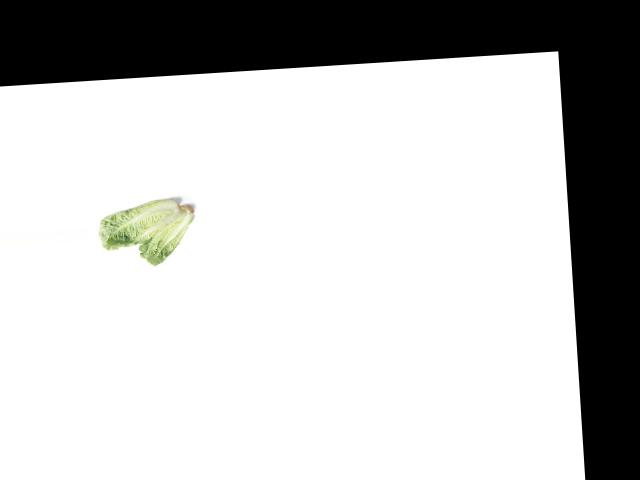lettuce: (135, 202, 202, 267)
